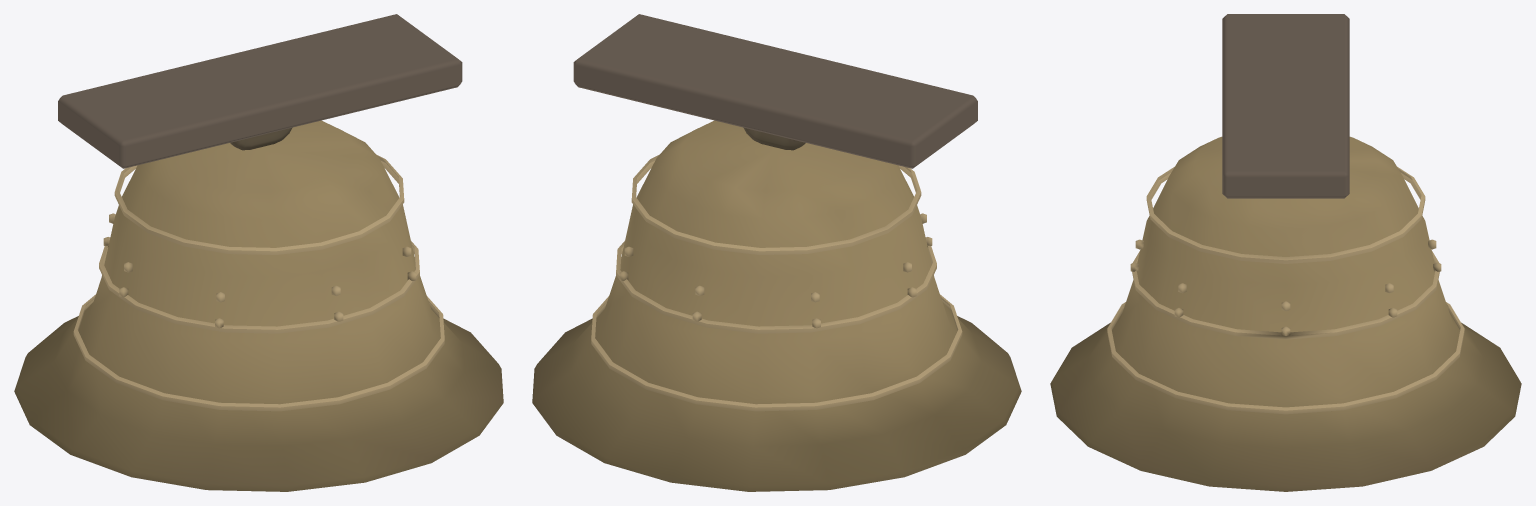
The model's file is bell.glb.
3 views of the same model, side by side, from view 1: azimuth 30°, elevation 25°; view 2: azimuth 150°, elevation 25°; view 3: azimuth 270°, elevation 25° (orthographic). The views are drawn at different scales.
Parts seen in each view (by area): view 1: fx_bell_m0; view 2: fx_bell_m0; view 3: fx_bell_m0.
Part boxes in pixels (x1=…): fx_bell_m0: x1=14, y1=14, x2=503, y2=491; fx_bell_m0: x1=532, y1=14, x2=1021, y2=491; fx_bell_m0: x1=1050, y1=14, x2=1521, y2=491.
Bounding box in the file's own units: 1.85 × 1.57 × 1.85.
